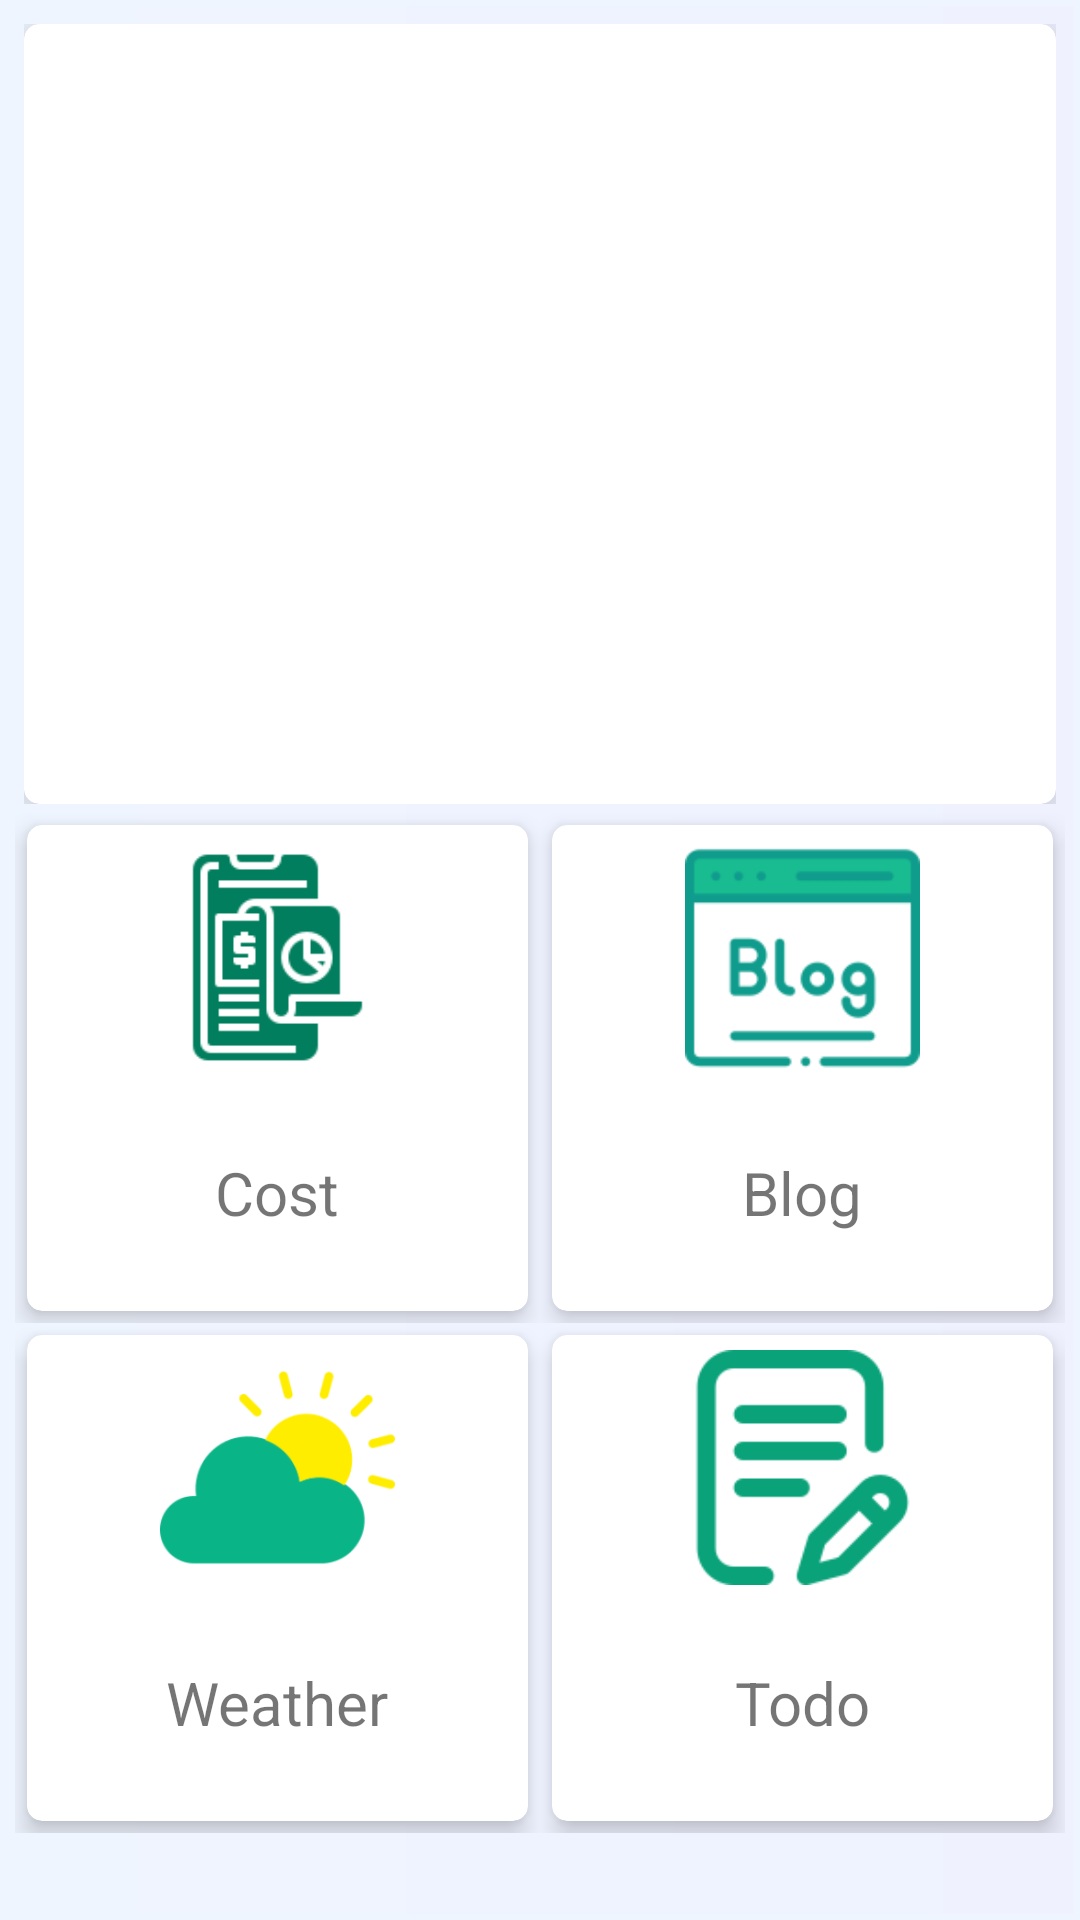

Icon click points for this 1080*1920 phone screenshot, format (x,y):
sun: (277,1467)
writing: (802,1467)
